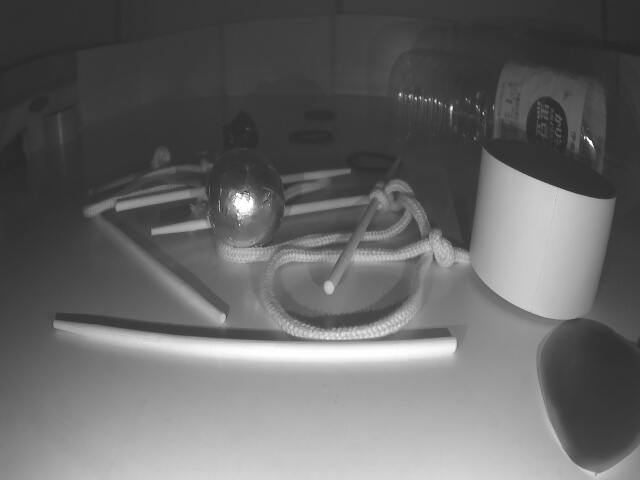Dead: (227, 110, 256, 152)
Live: (204, 152, 281, 249)
